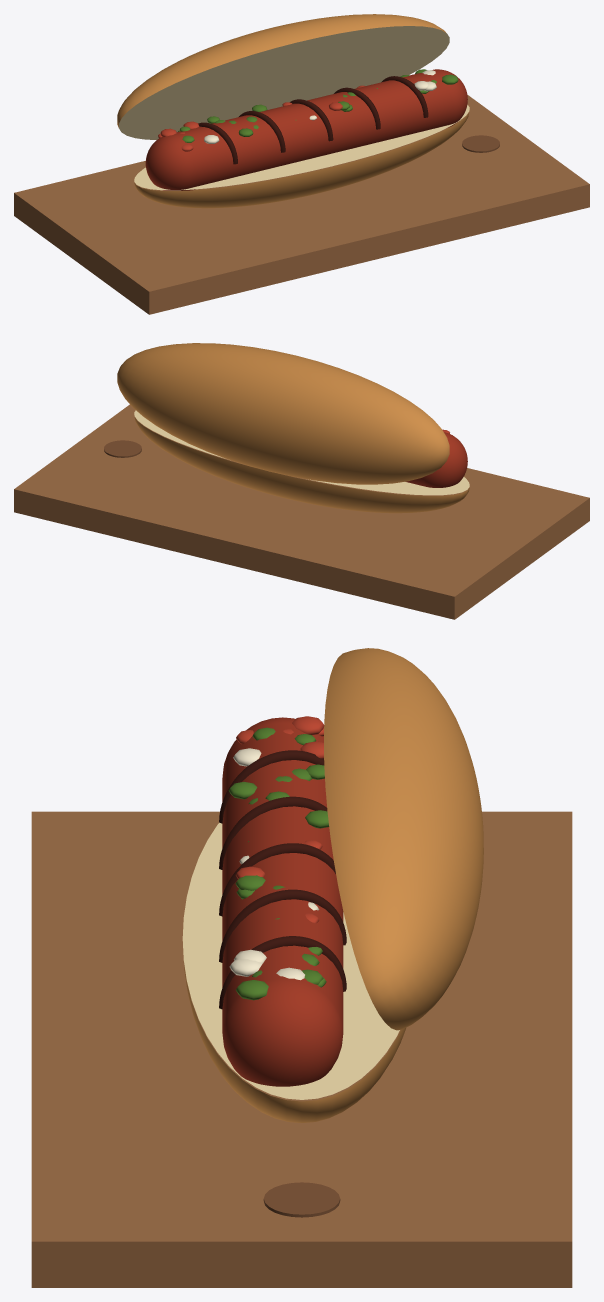
The model's file is choripan.glb.
The picture shows the model from 3 angles, top to bottom: view 1: azimuth 30°, elevation 25°; view 2: azimuth 150°, elevation 25°; view 3: azimuth 270°, elevation 25°; orthographic projection. The views are drawn at different scales.
Parts seen in each view (by area): view 1: tabla, object 6, chorizo, object 3, object 5, object 4, object 2; view 2: tabla, object 5, object 3, object 4, chorizo, object 2; view 3: tabla, object 5, chorizo, object 4, object 3, object 2, object 11, object 10, object 12, object 9, object 8.
Part boxes in pixels (left/top/right/bottom): tabla: left=14, top=95, right=589, bottom=314; object 6: left=119, top=26, right=449, bottom=139; chorizo: left=145, top=69, right=467, bottom=190; object 3: left=134, top=112, right=469, bottom=208; object 5: left=117, top=14, right=445, bottom=127; object 4: left=134, top=105, right=469, bottom=190; object 2: left=462, top=135, right=499, bottom=152; tabla: left=14, top=404, right=589, bottom=619; object 5: left=117, top=343, right=449, bottom=484; object 3: left=134, top=417, right=469, bottom=513; object 4: left=134, top=410, right=469, bottom=495; chorizo: left=405, top=432, right=467, bottom=487; object 2: left=104, top=440, right=141, bottom=457; tabla: left=31, top=811, right=572, bottom=1287; object 5: left=324, top=648, right=483, bottom=1030; chorizo: left=222, top=717, right=343, bottom=1086; object 4: left=182, top=822, right=399, bottom=1099; object 3: left=183, top=962, right=405, bottom=1122; object 2: left=263, top=1182, right=340, bottom=1217; object 11: left=219, top=889, right=346, bottom=962; object 10: left=219, top=843, right=335, bottom=916; object 12: left=219, top=936, right=346, bottom=1009; object 9: left=219, top=796, right=327, bottom=869; object 8: left=219, top=750, right=324, bottom=823.
Size of the model in its own units: 0.32 by 0.1172 by 0.17.
